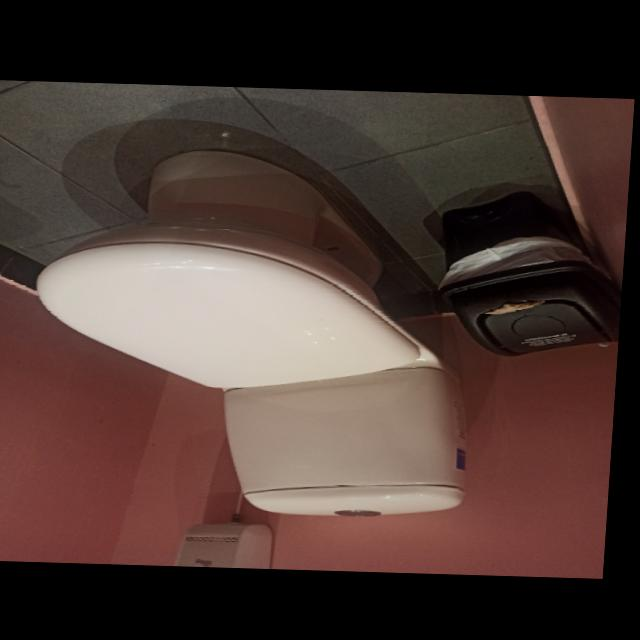toilet: (14, 135, 504, 528)
